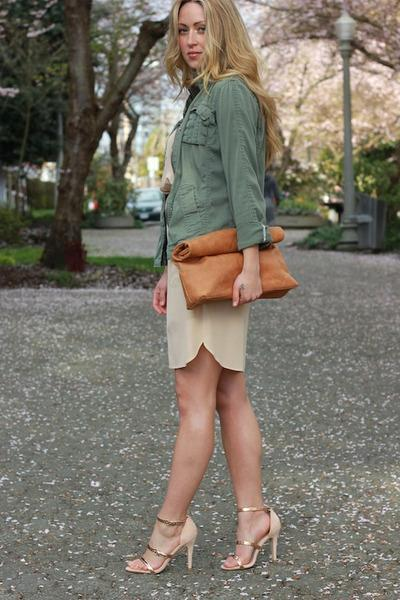bag: (180, 224, 296, 319)
shirt: (145, 69, 272, 265)
shoe: (142, 507, 280, 572)
skirt: (161, 252, 247, 370)
